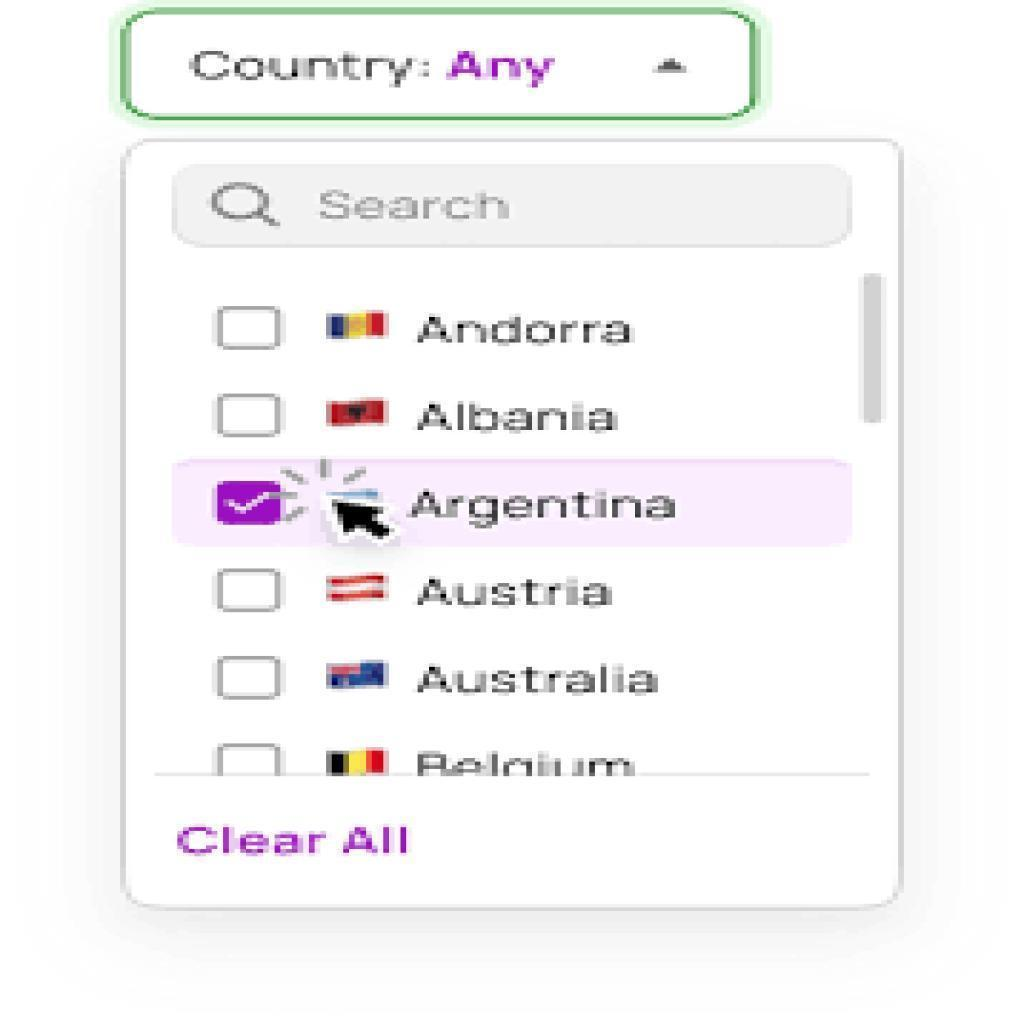checkbox: (214, 481, 288, 525), (217, 303, 283, 350), (216, 391, 283, 437), (216, 568, 283, 614), (216, 654, 284, 699)
dropdown: (131, 13, 749, 121)
icon: (322, 480, 410, 550), (321, 300, 396, 353), (324, 650, 396, 699), (209, 184, 293, 226), (326, 566, 398, 614), (323, 388, 388, 435)
input: (175, 166, 850, 250)
label: (174, 816, 417, 861)
